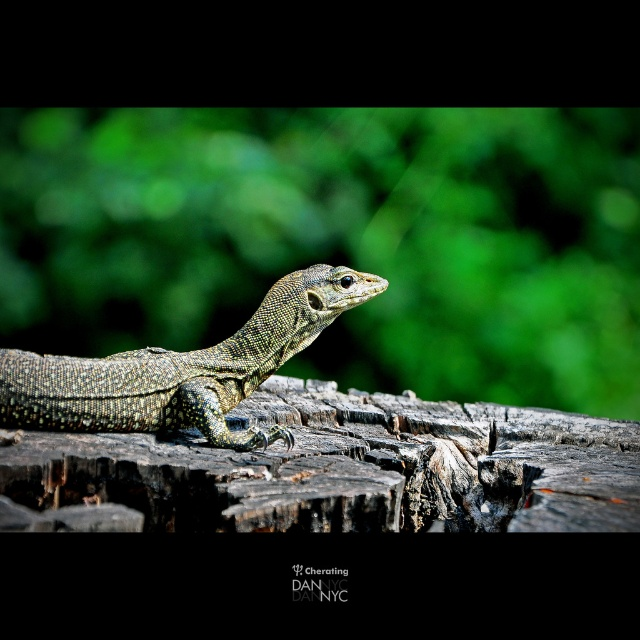Lizard: (2, 266, 386, 448)
